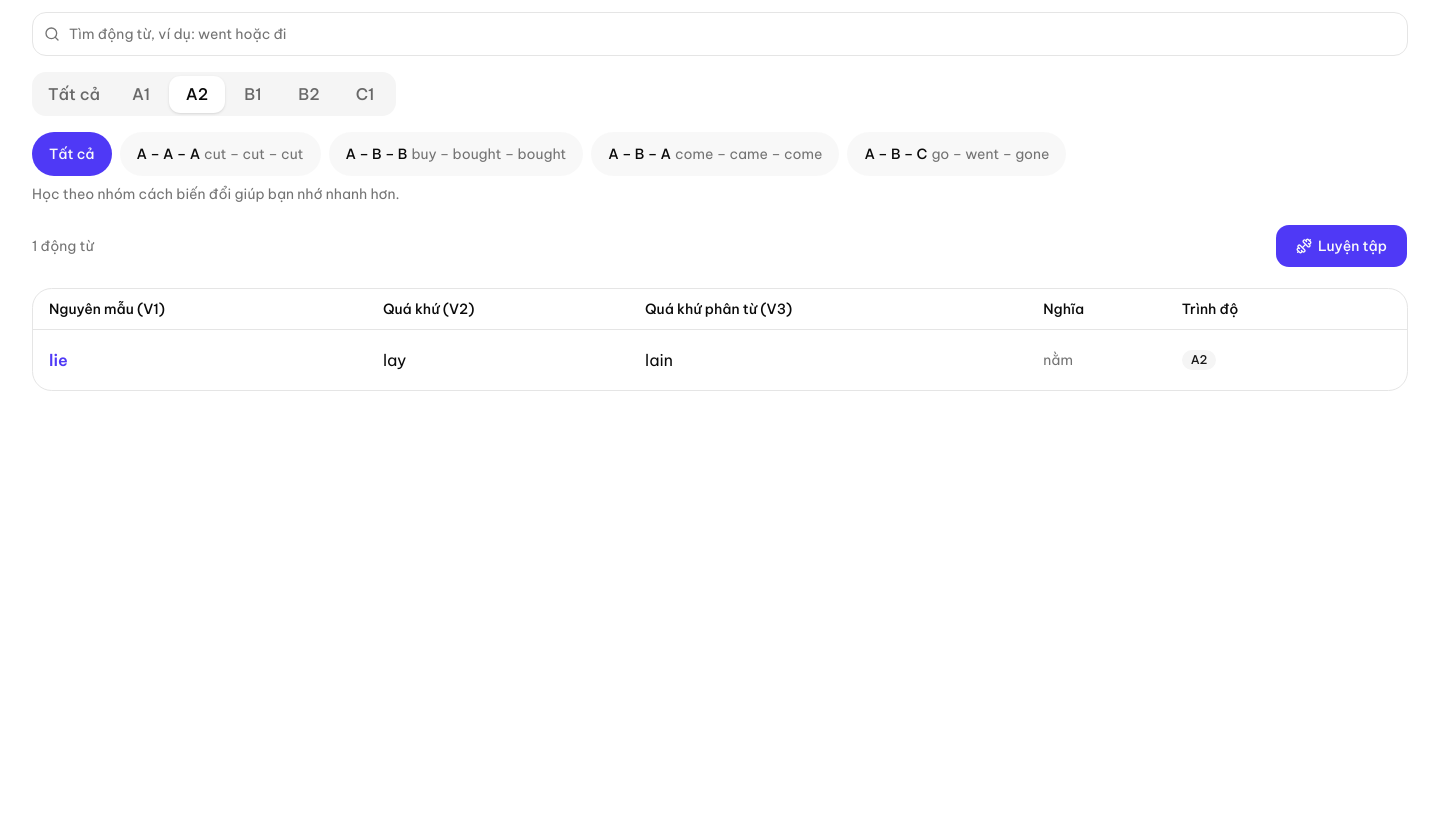
it: VerbsBrowser › filters by level and searches forms and meanings without accents (AC-005)
Click the tab "C1" at (365, 94), box [337, 76, 393, 112]
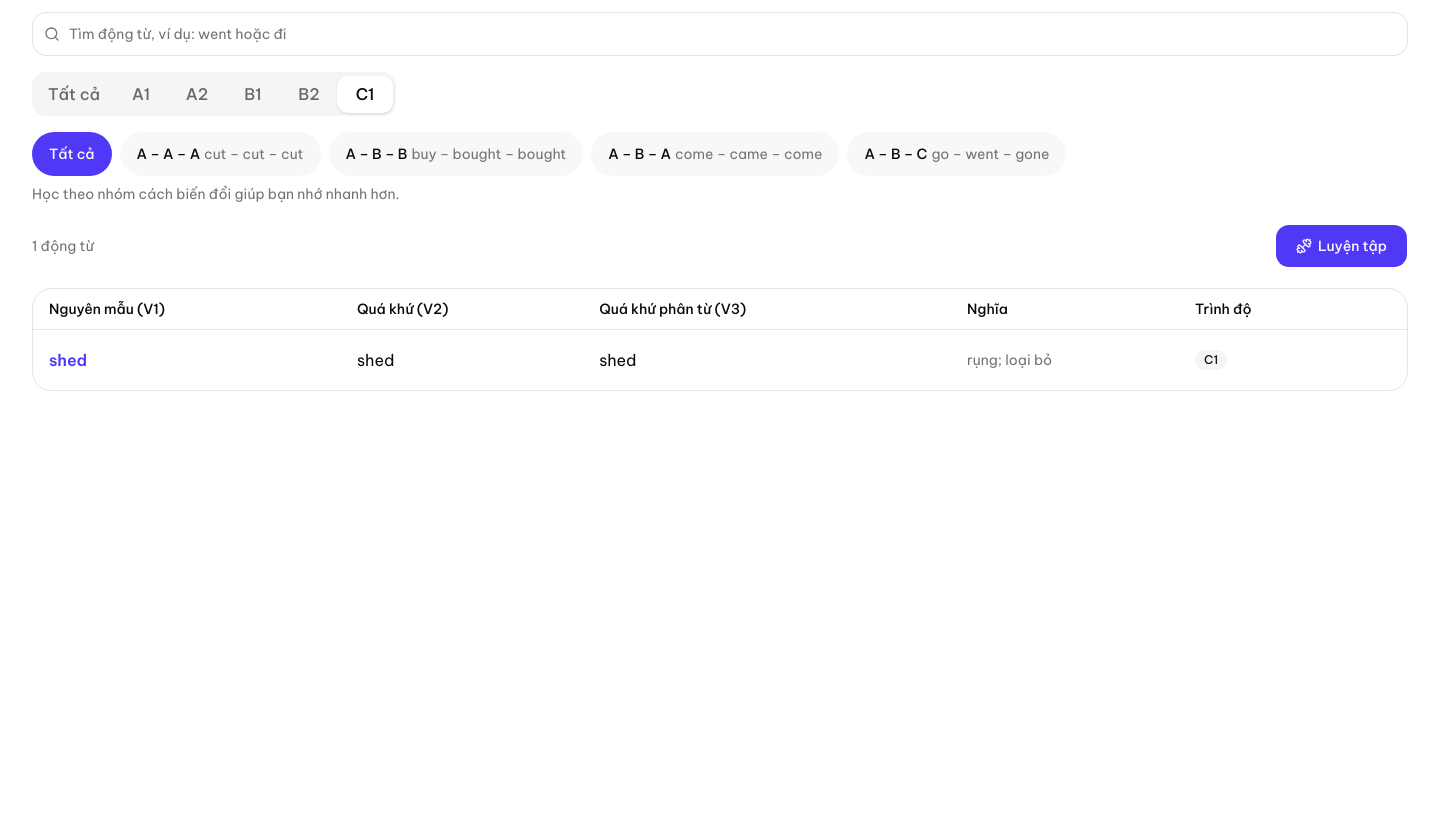
Click the tab "Tất cả" at (74, 94), box [35, 76, 113, 112]
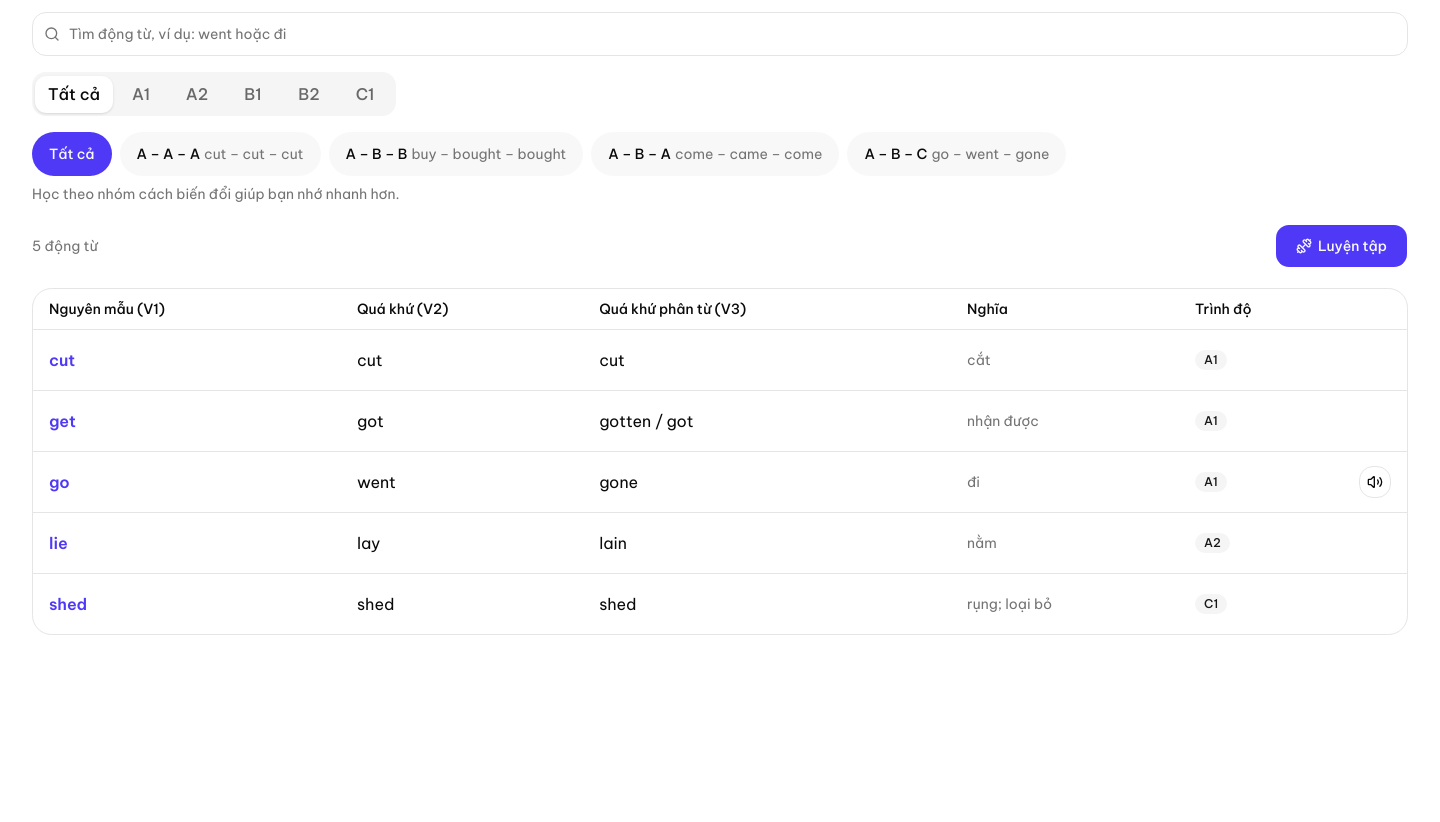
Type "wen" into the search field labelled "Tìm động từ" at (720, 34), box [32, 12, 1408, 56]
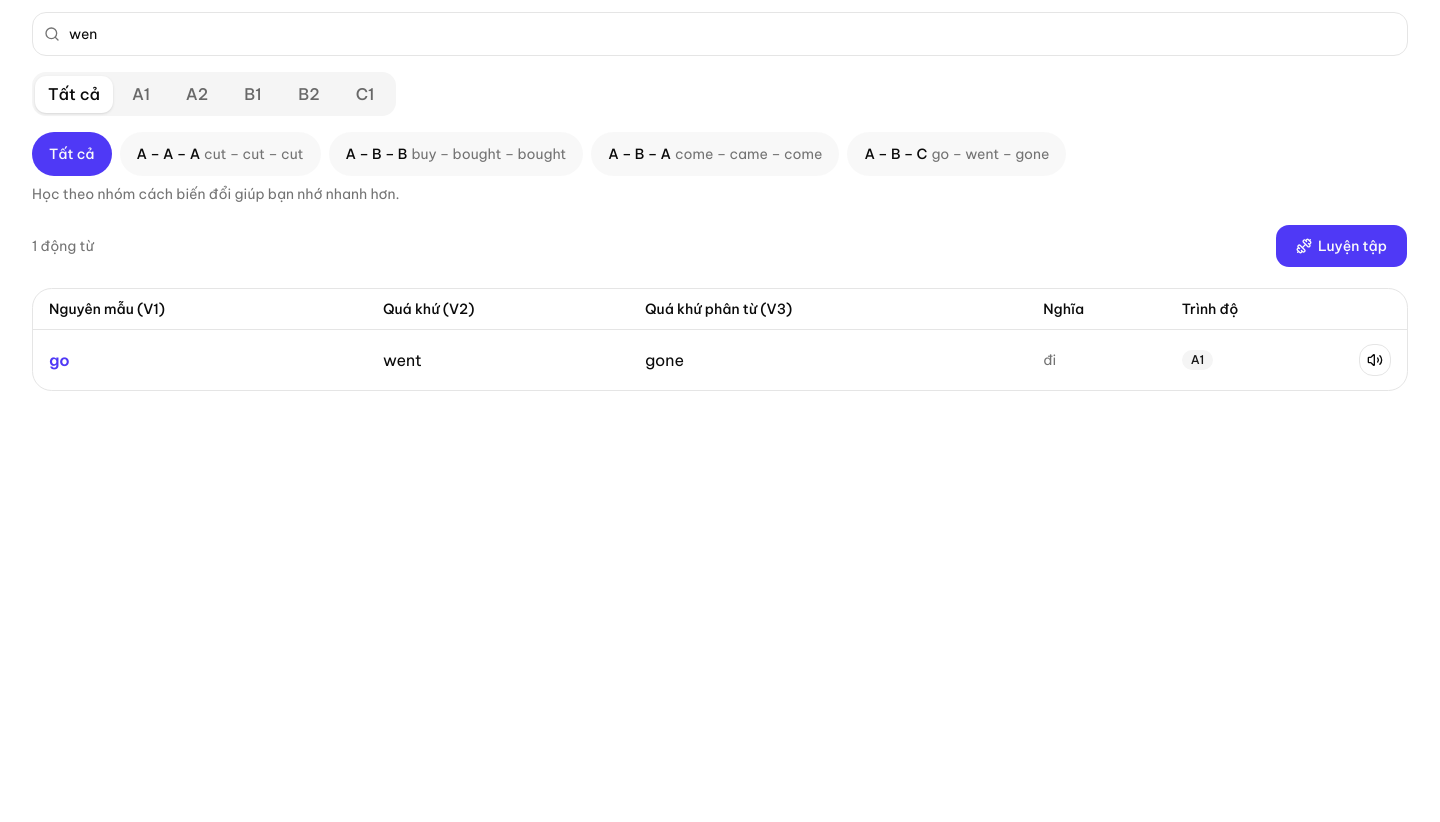
Replace the text in the search field named "Tìm động từ" with "di" at (720, 34), box [32, 12, 1408, 56]
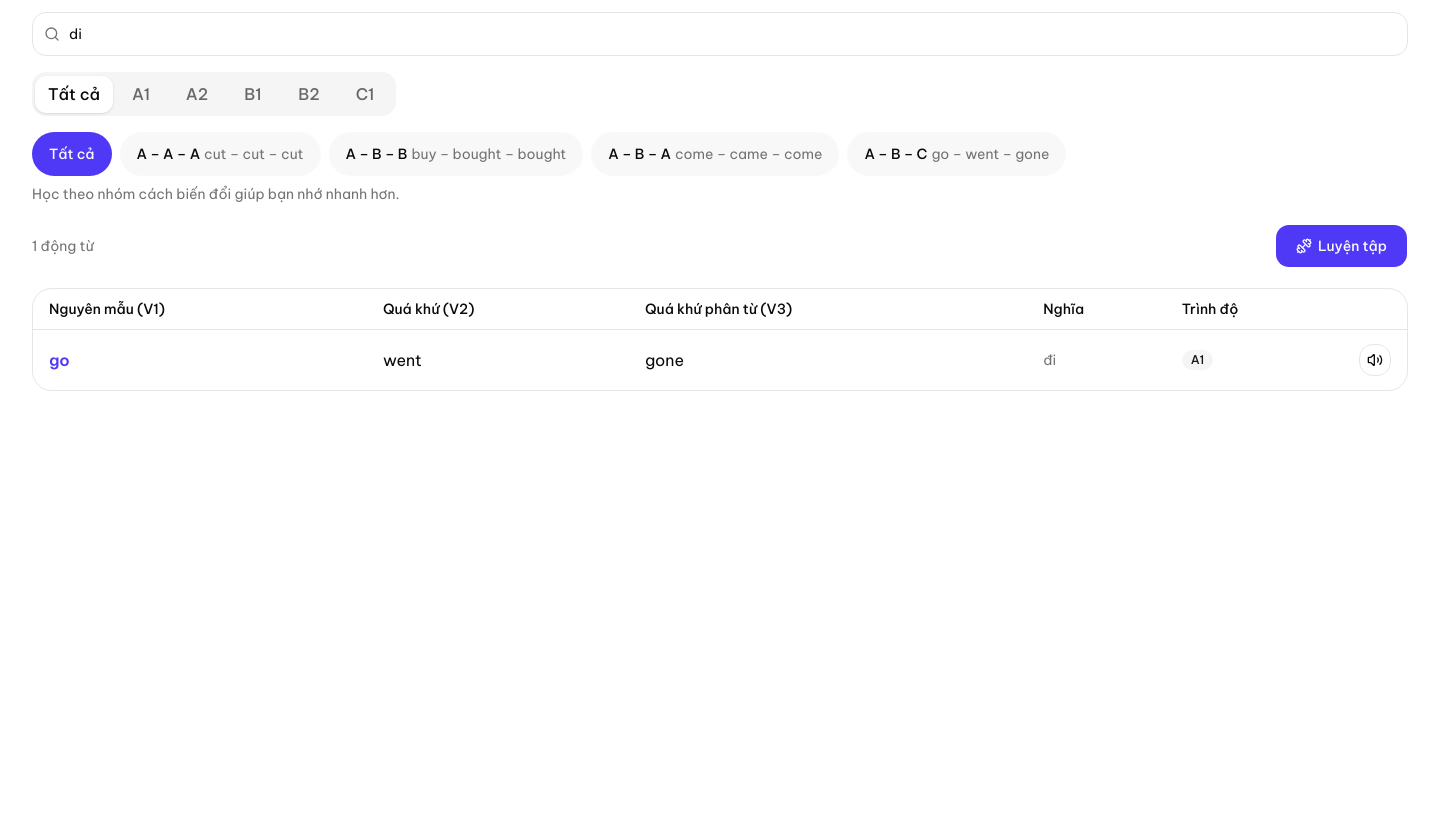
Replace the text in the search field named "Tìm động từ" with "zzz" at (720, 34), box [32, 12, 1408, 56]
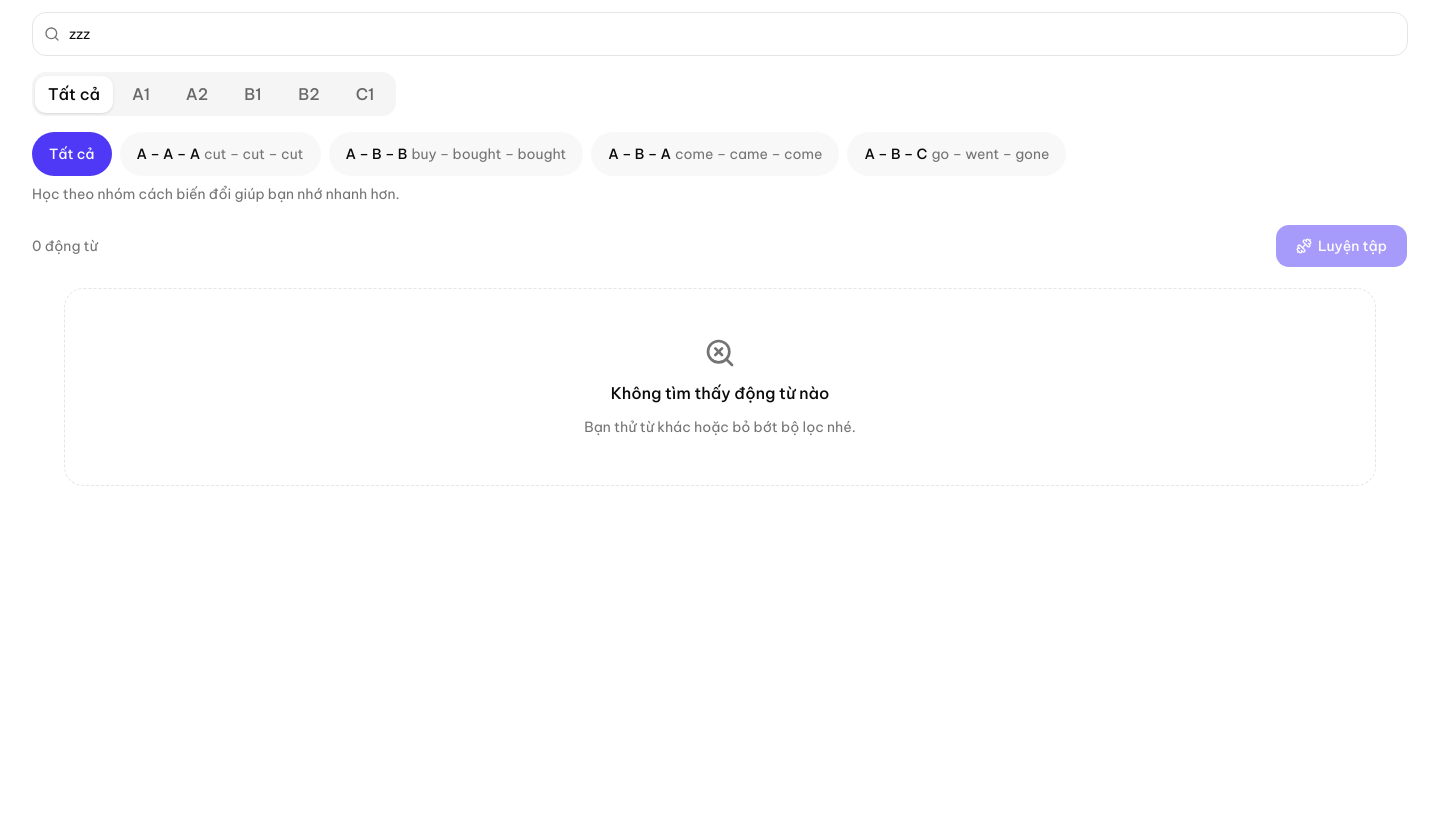
Expected: the text "Không tìm thấy động từ nào" is shown, [611, 381, 829, 405]
Expected: the button "Luyện tập" is disabled, [1275, 224, 1408, 268]
